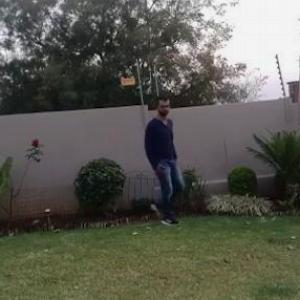follow: (133, 91, 184, 232)
